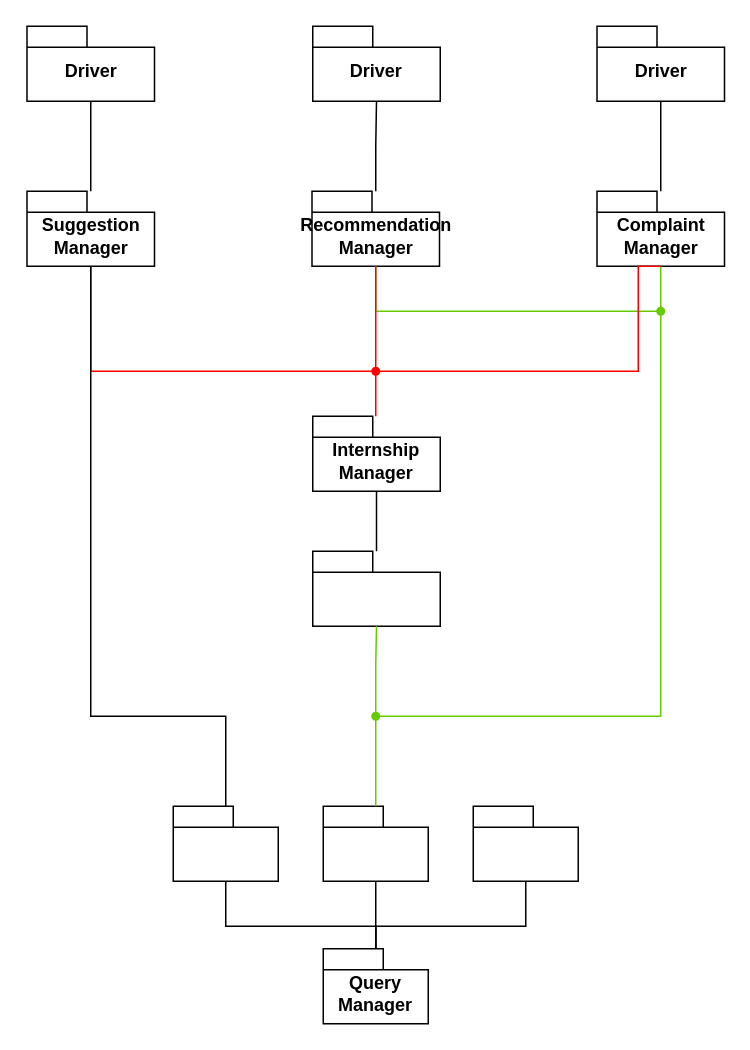
Image size: 750x1050. Some labels were removed from this diagram. The centre of each missing label's shape, as x and y in pixels:
"Login Manager" goes at point (525, 843).
"Notification Manager" goes at point (375, 843).
"Profile Manager" goes at point (225, 843).
"Questionnaire Manager" goes at point (375, 588).
